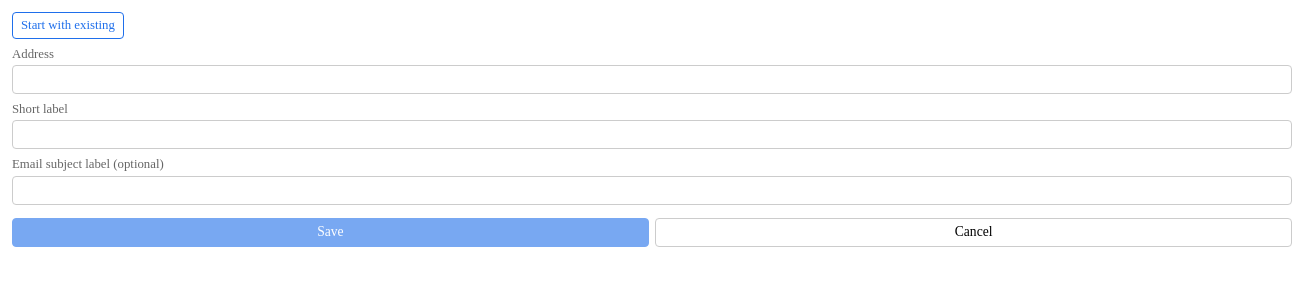
Test: DestinationForm › "start with existing" reveals a template dropdown that prefills the email form
Expected: the field labelled "Address" is empty, [12,65,1292,94]
Click the button "Start with existing". click: (68, 25)
box: [12,12,124,39]
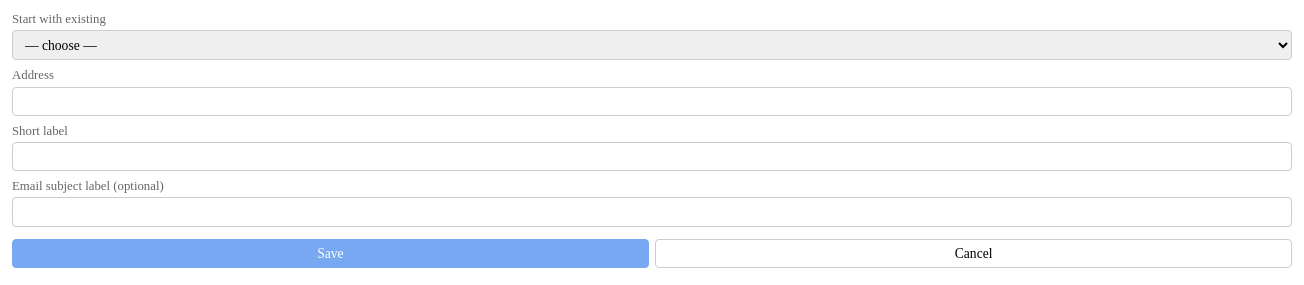
Select "Existing" in the dropdown labelled "Start with existing". click: (652, 45)
box: [12,30,1292,60]
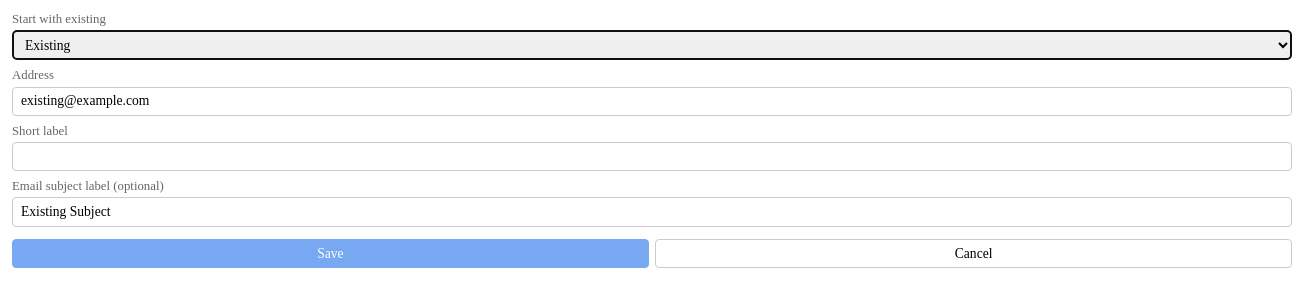
Expected: the field labelled "Short label" is empty, [12,142,1292,171]
Now the field labelled "Address" holds "existing@example.com", box [12,87,1292,116]
Now the field labelled "Email subject label (optional)" holds "Existing Subject", box [12,197,1292,226]
